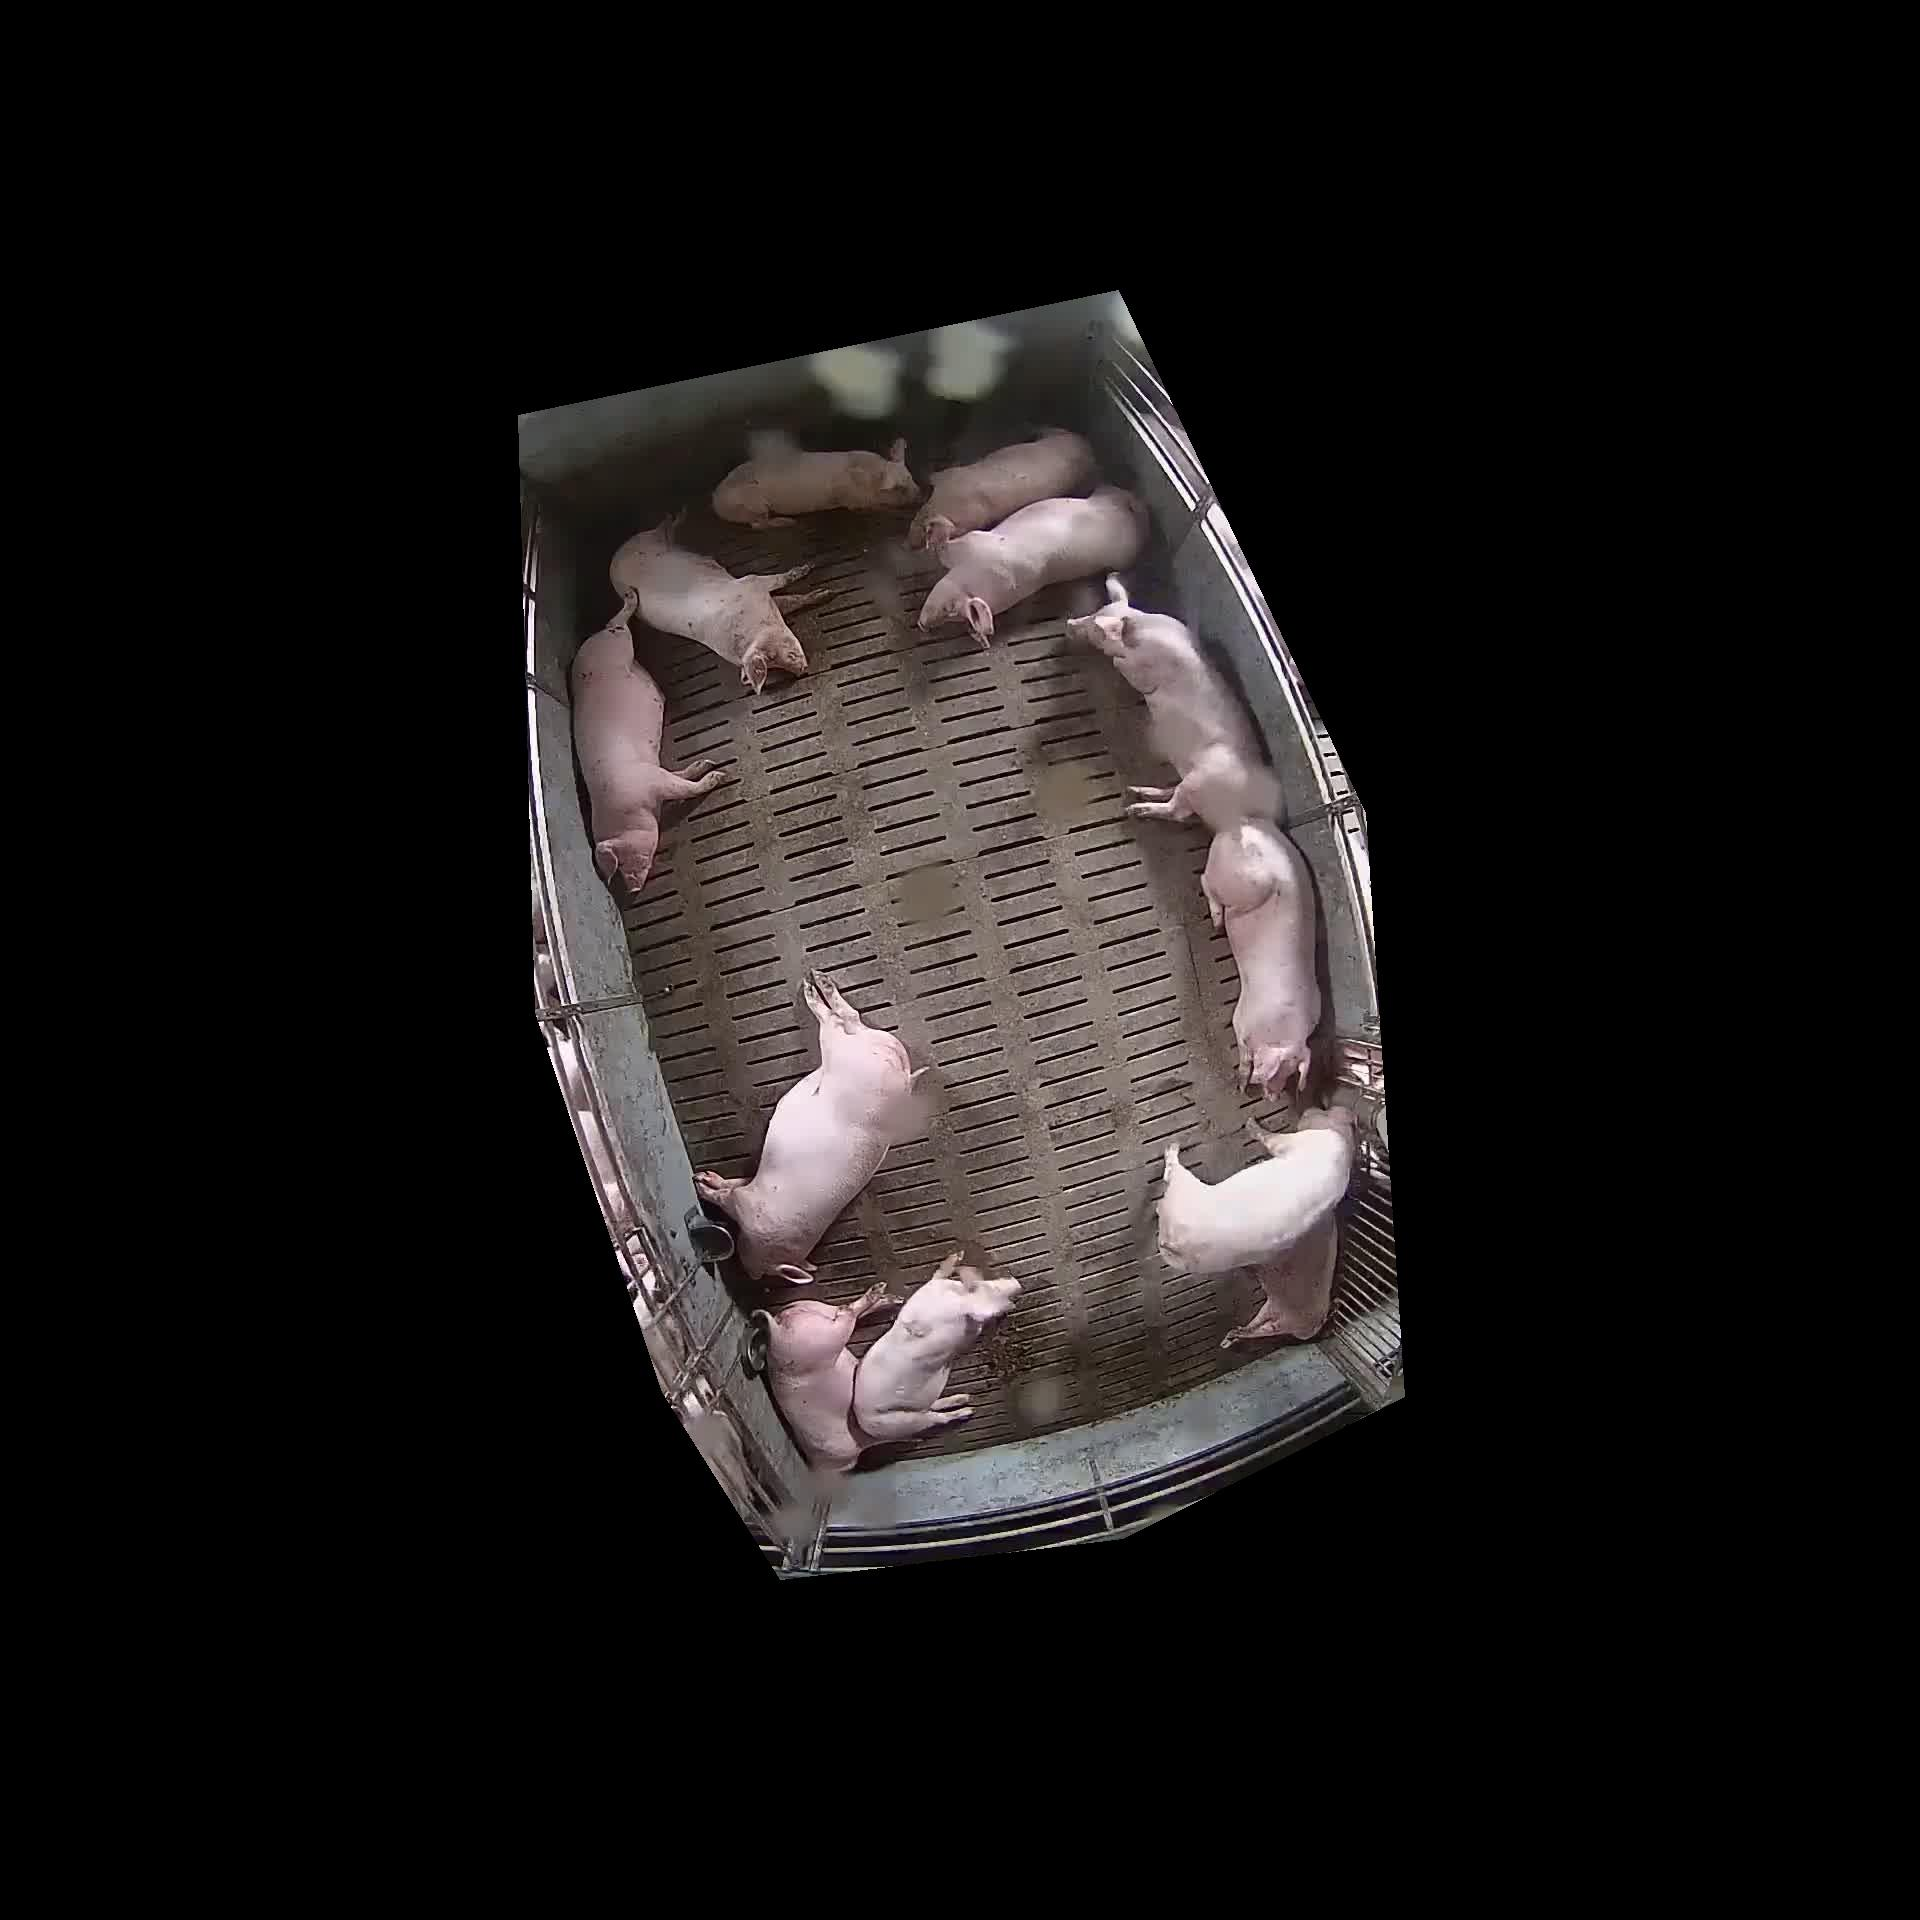pig: (695, 971, 927, 1282), (1065, 573, 1280, 826), (571, 593, 723, 891), (920, 487, 1148, 647), (610, 520, 809, 689), (1203, 818, 1320, 1095), (855, 1241, 1016, 1438), (1159, 1109, 1350, 1271), (913, 425, 1094, 547), (767, 1284, 884, 1470), (712, 429, 918, 527), (1220, 1210, 1335, 1345)
